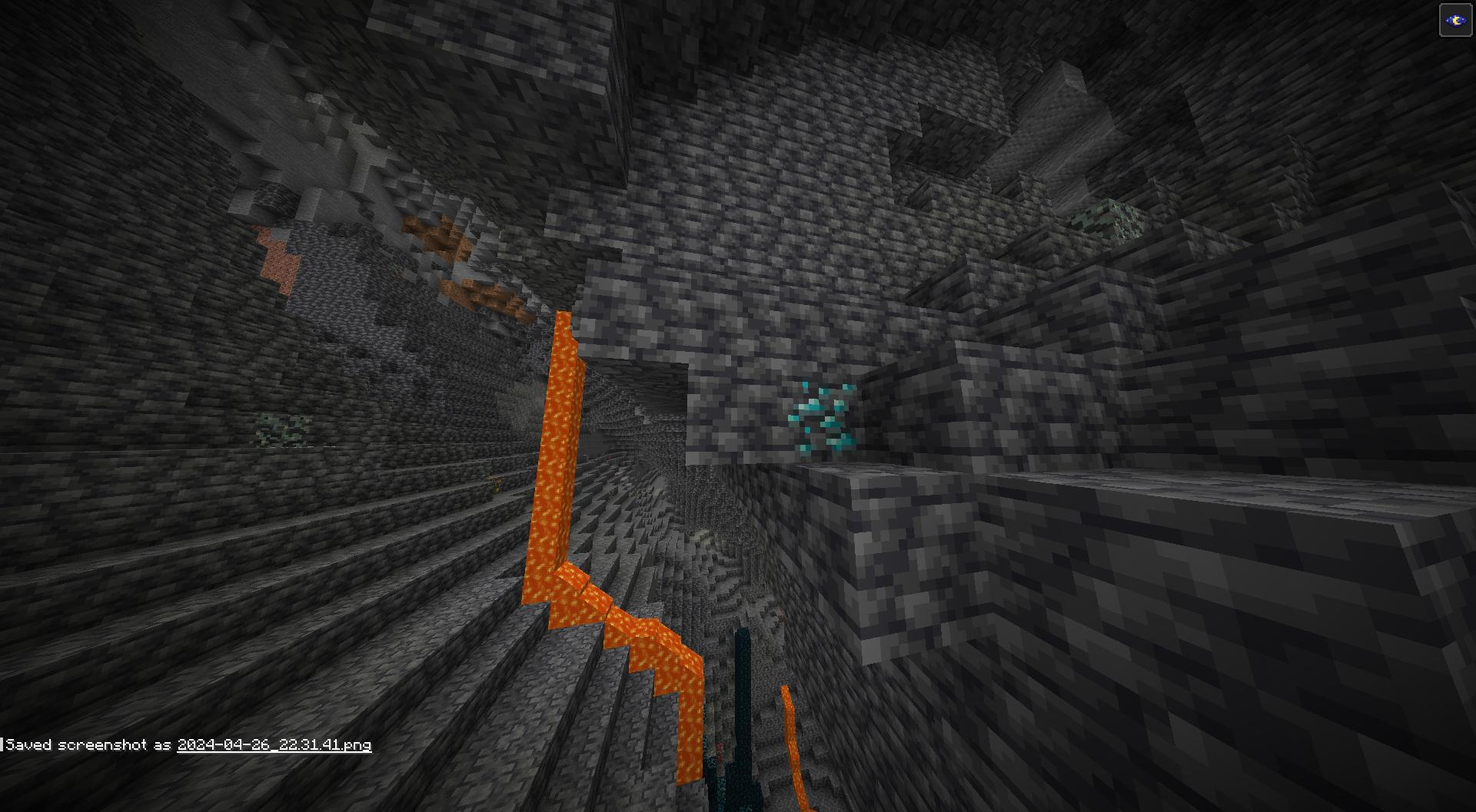diamond ore: (783, 379, 858, 457)
gold ore: (485, 473, 505, 494)
redstone ore: (715, 739, 728, 762)
